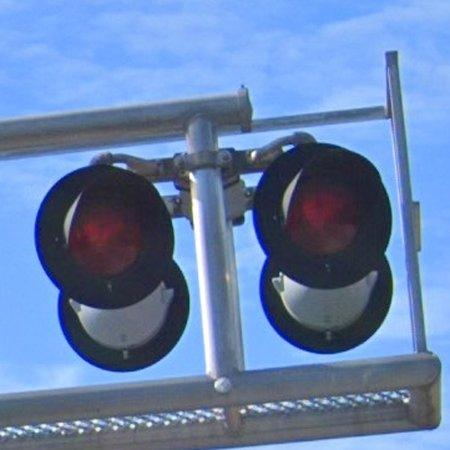traffic lights: (254, 144, 394, 355)
